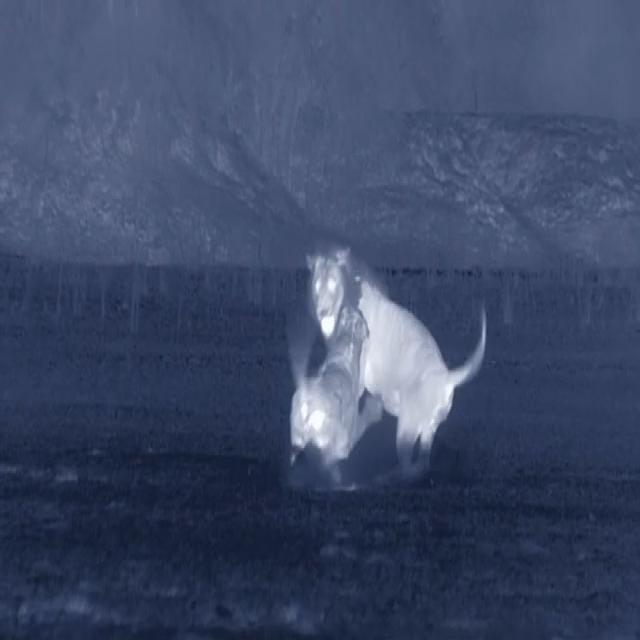animal: (276, 175, 533, 551)
